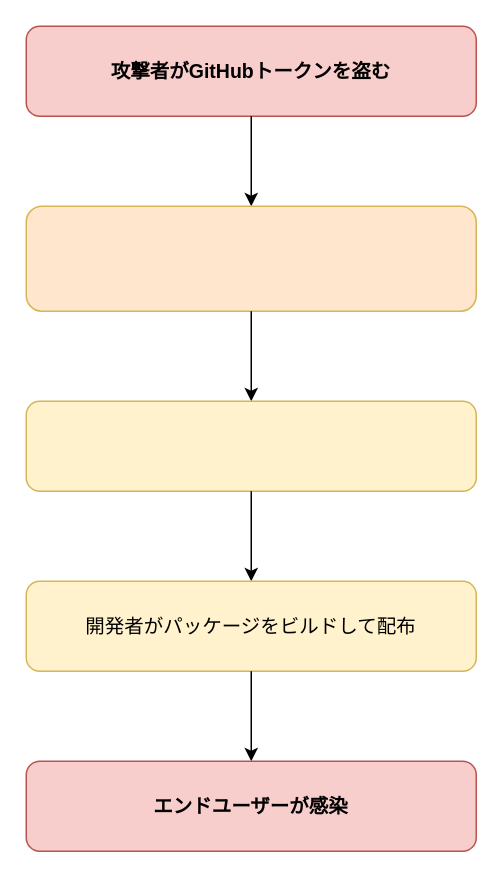
Some shapes in this 503 by 878 pixel diagram are drawn without their labels. Here are the shapes that lost their labels. From the top down, the centre of each, then its label:
the point at 250,258: 正規OSリポジトリに不可視文字マルウェアを含むコミットをforce-pushで注入
the point at 250,445: 開発者がnpm install で感染ライブラリを取得
